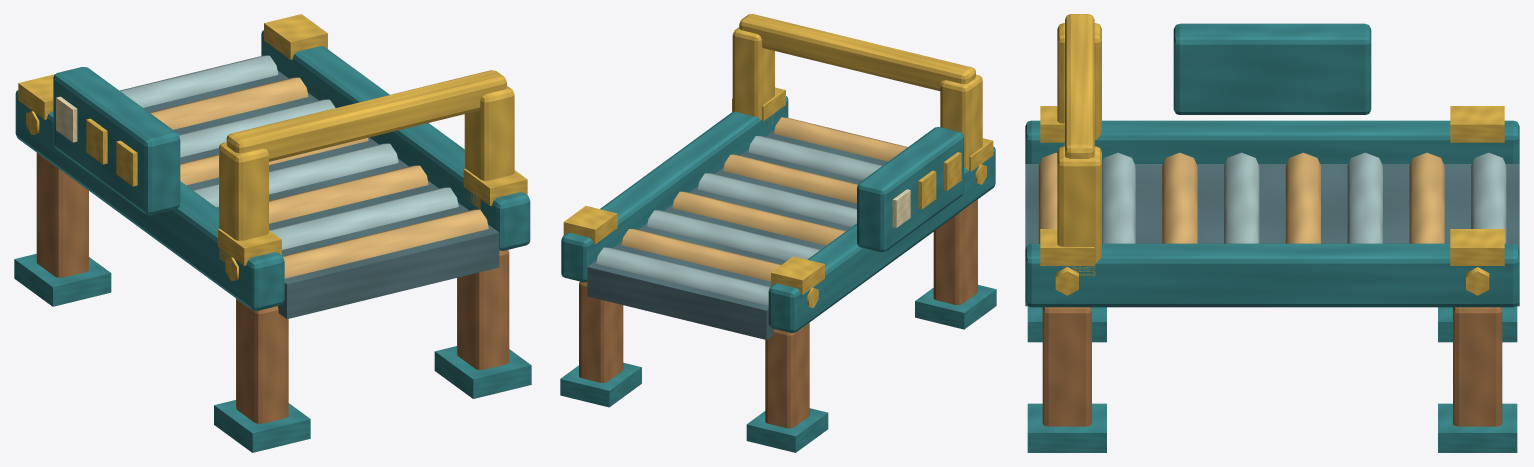
File: industry-roller-buffer.glb
The picture shows the model from 3 angles, left to right: view 1: azimuth 30°, elevation 25°; view 2: azimuth 150°, elevation 25°; view 3: azimuth 270°, elevation 25°; orthographic projection. The views are drawn at different scales.
Parts seen in each view (by area): view 1: industry-roller-buffer-mesh; view 2: industry-roller-buffer-mesh; view 3: industry-roller-buffer-mesh.
Part boxes in pixels (x1,y1,x2,y2): industry-roller-buffer-mesh: (14, 14, 531, 452); industry-roller-buffer-mesh: (560, 14, 996, 452); industry-roller-buffer-mesh: (1025, 14, 1519, 452).
Size of the model in its own units: 1.58 by 1.36 by 2.
1 material, 1 textured.
